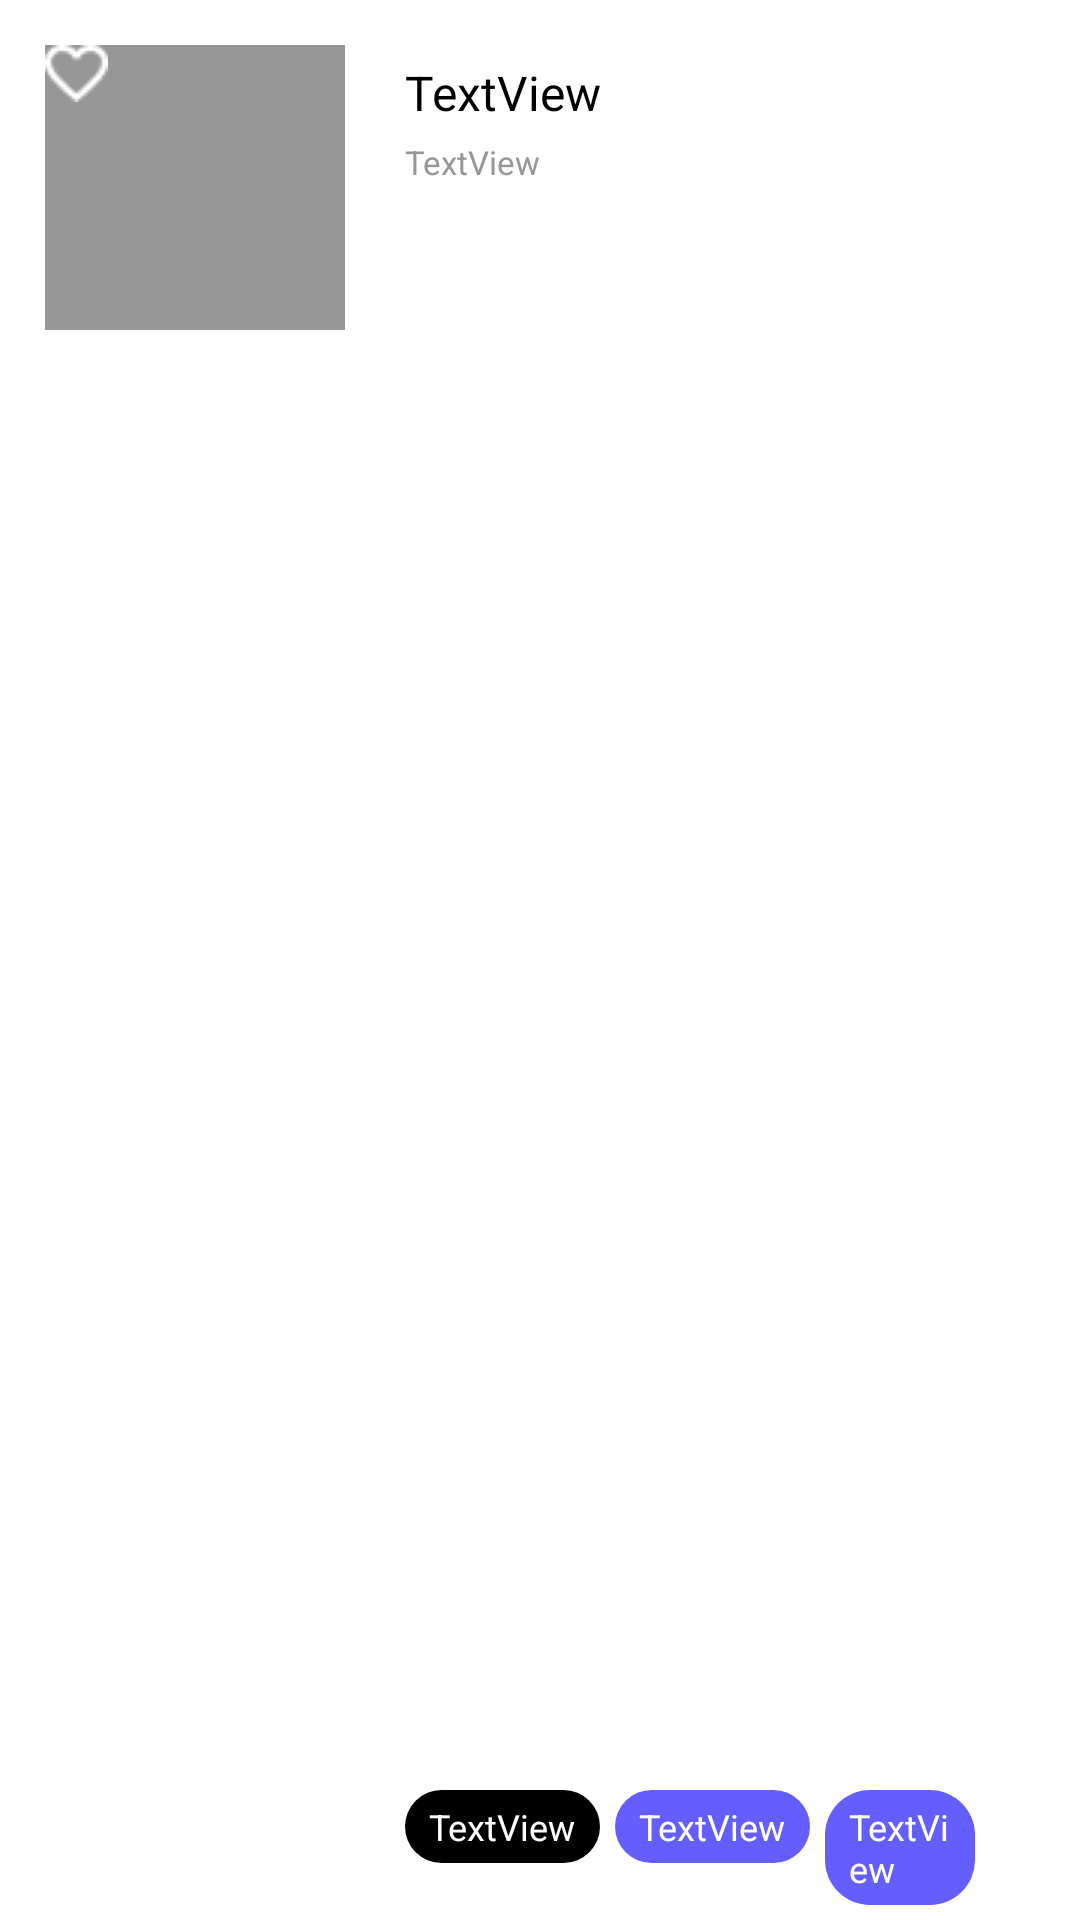

Icons on this 1080x1920 Android screen, each with the point to tap as (x=x, y=y):
click favorite: (x=76, y=73)
